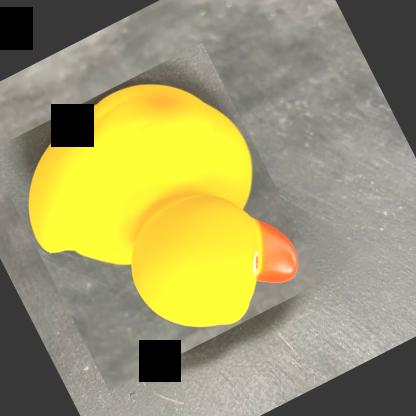duck: (0, 42, 324, 390)
